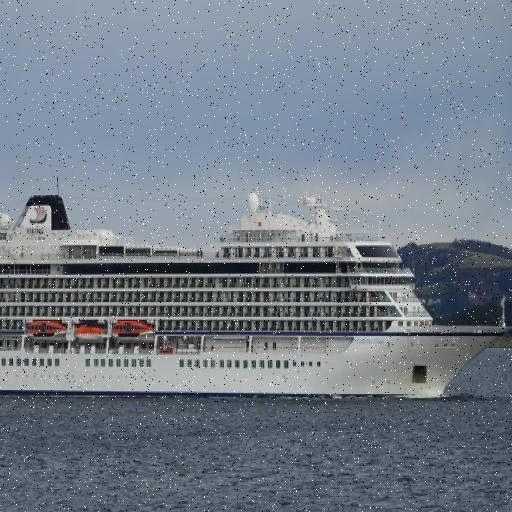cruises: (1, 166, 512, 418)
